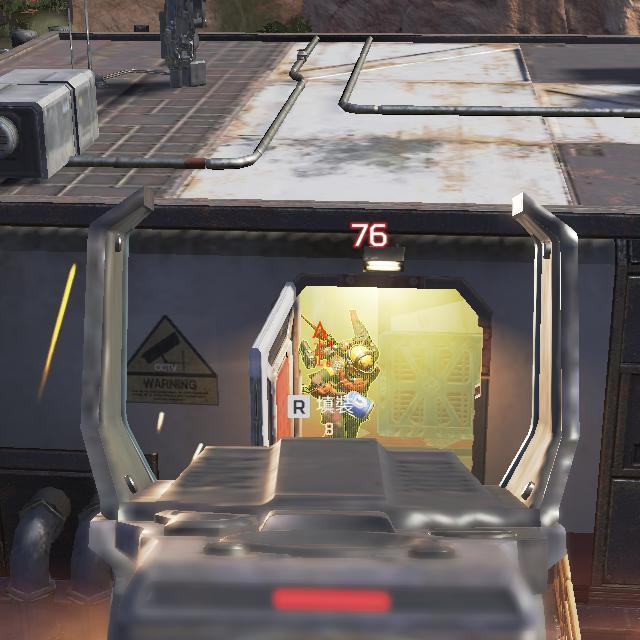avatar: (308, 336, 383, 437)
